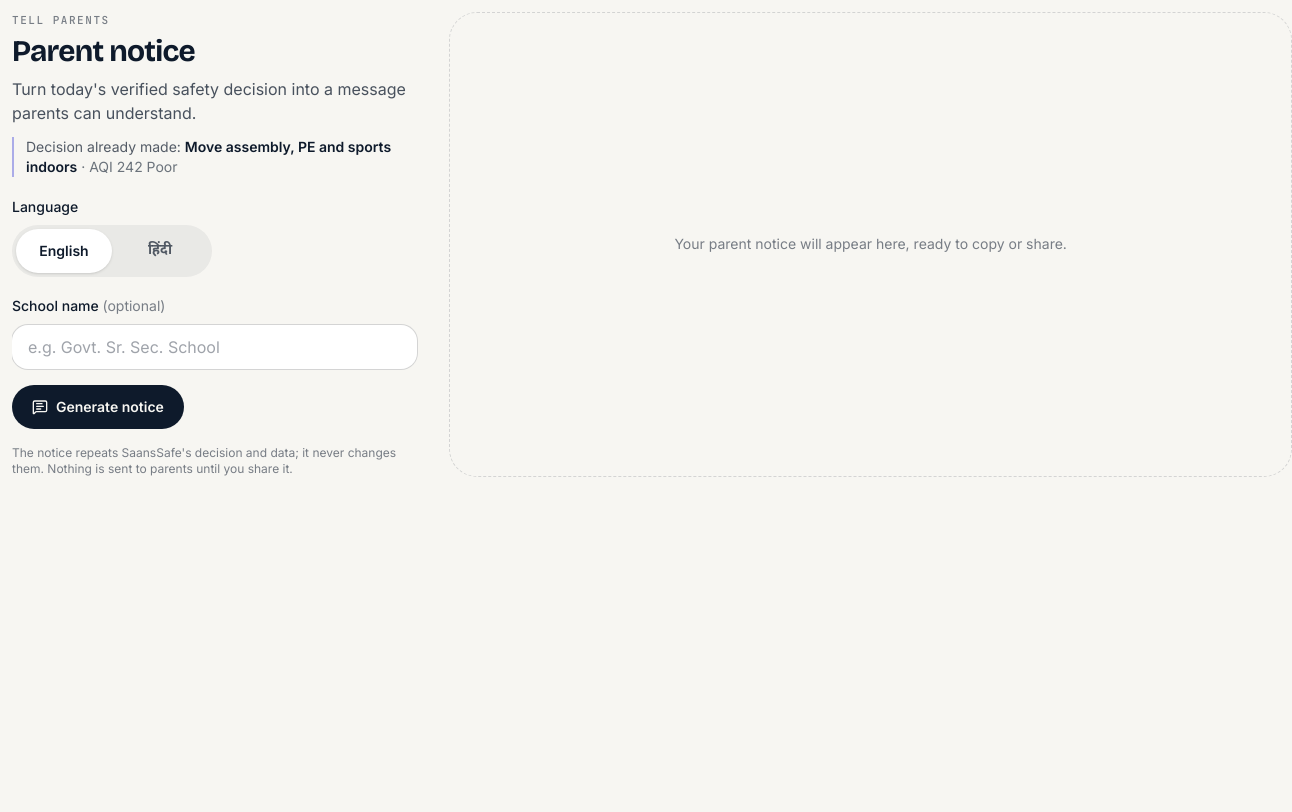
ParentNotice › generates a Hindi notice in Devanagari with the full Hindi font
Click the radio button labelled "हिंदी": (160, 250) [148, 240, 172, 260]
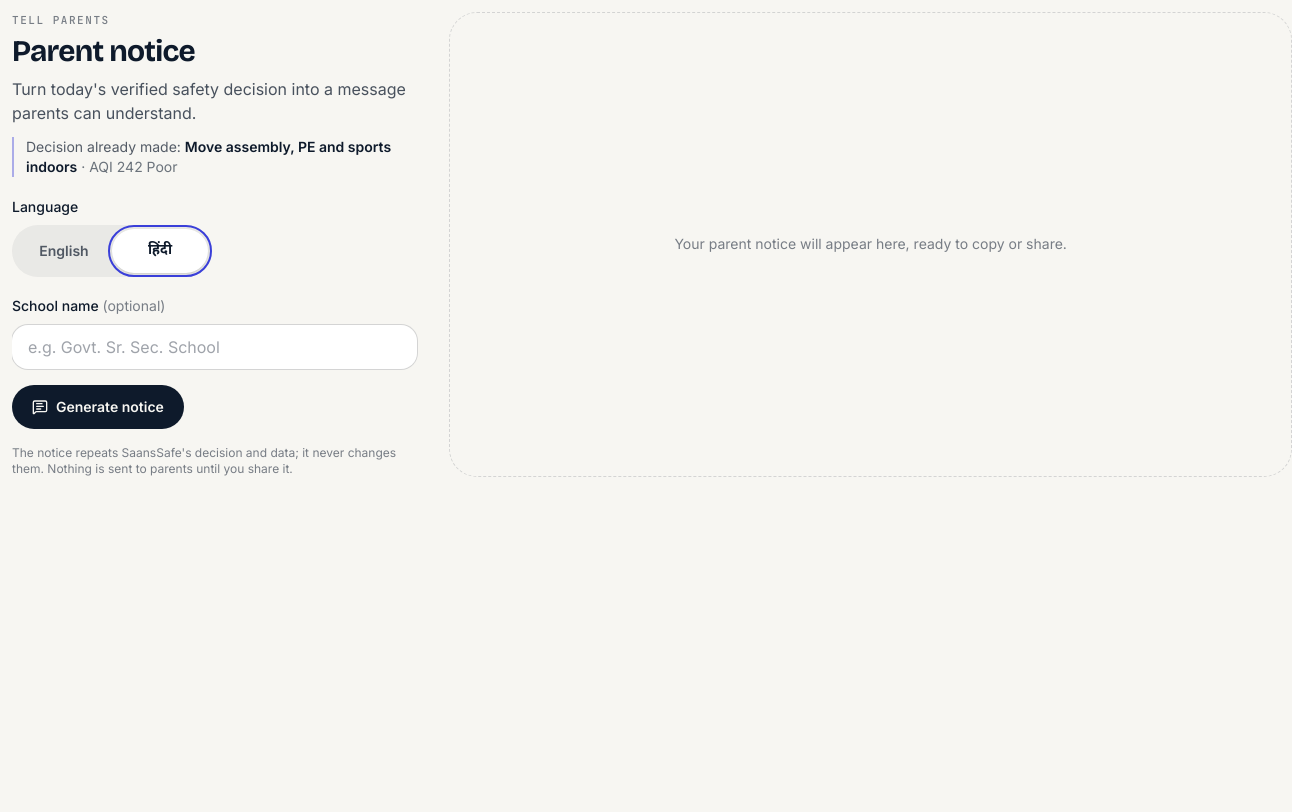
Check: the radio button labelled "हिंदी" is checked, box [112, 228, 208, 272]
Click the button "Generate notice": (98, 406) [12, 384, 184, 428]
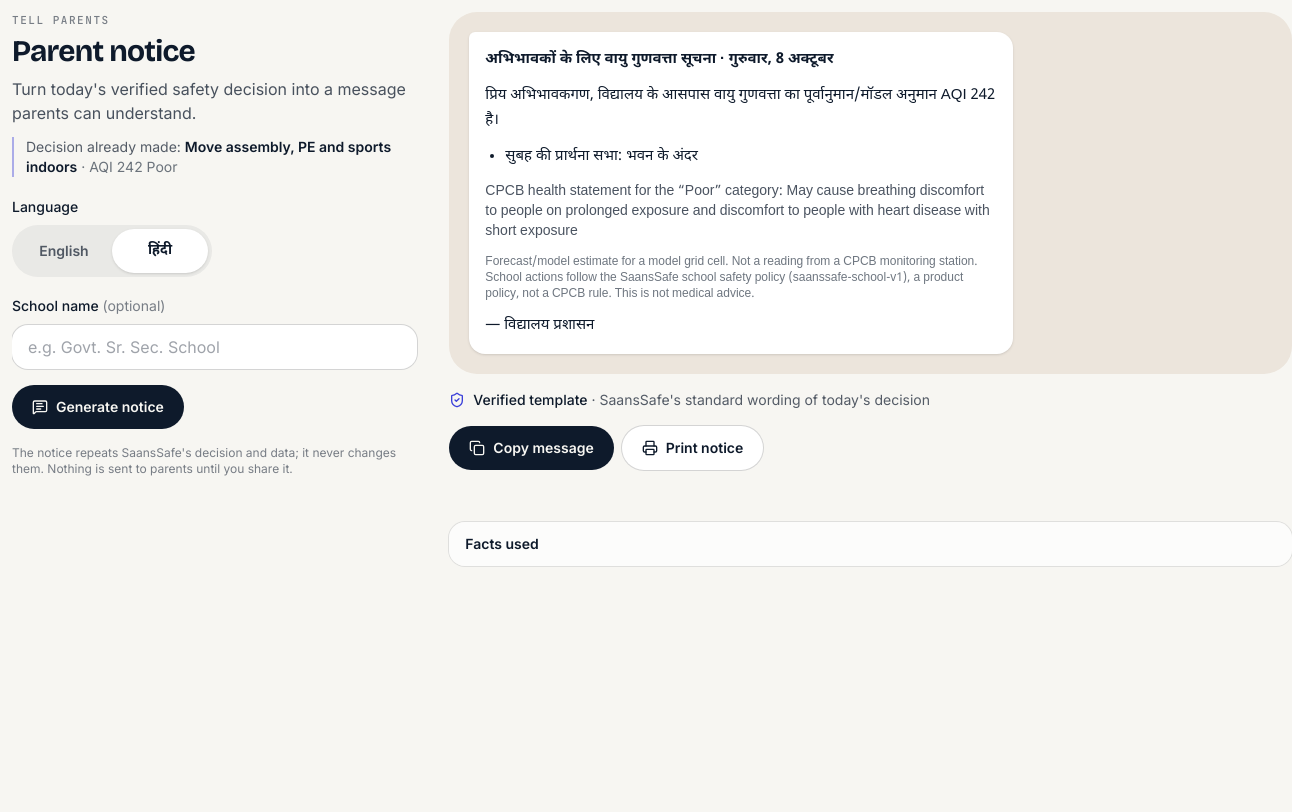
Check: the text "— विद्यालय प्रशासन" is shown, box [485, 316, 594, 334]
